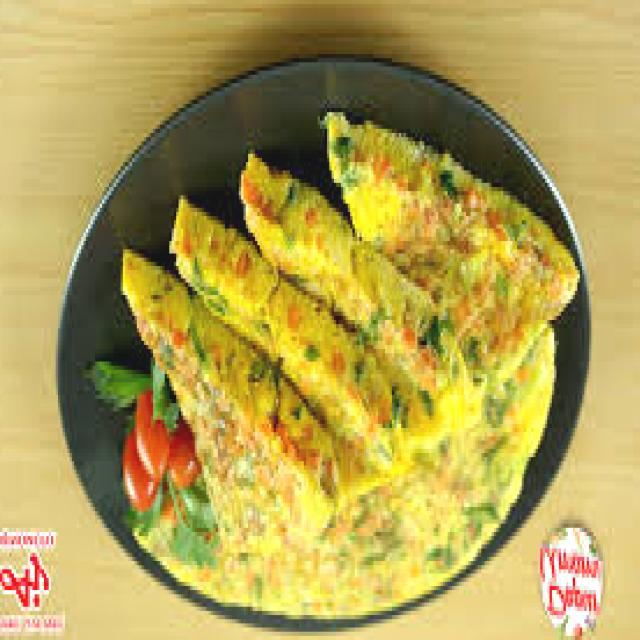telur_dadar: (130, 126, 572, 611)
